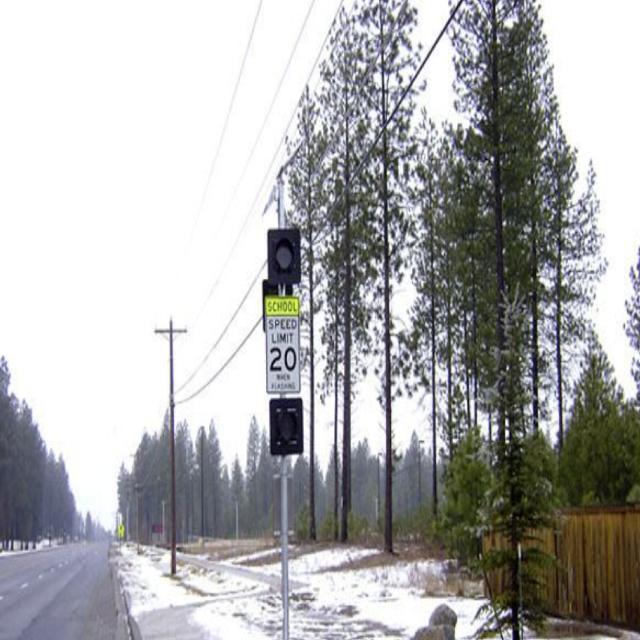speedLimit20: (267, 310, 298, 375)
